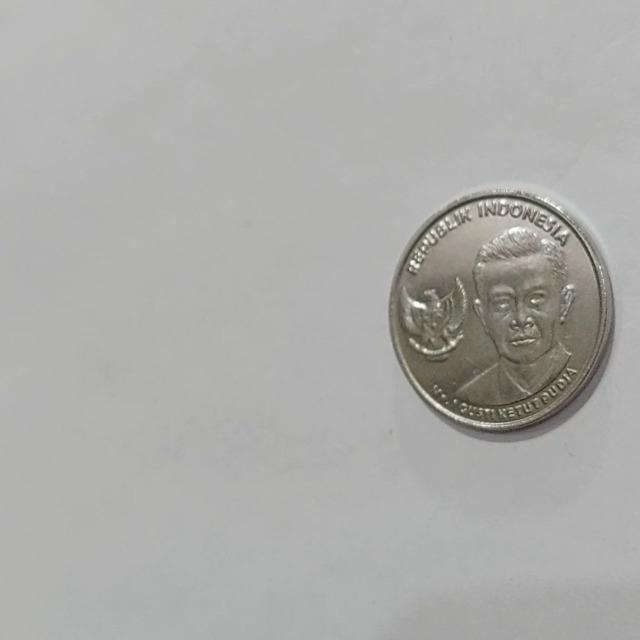Rp100: (388, 184, 614, 434), (447, 223, 580, 410)
